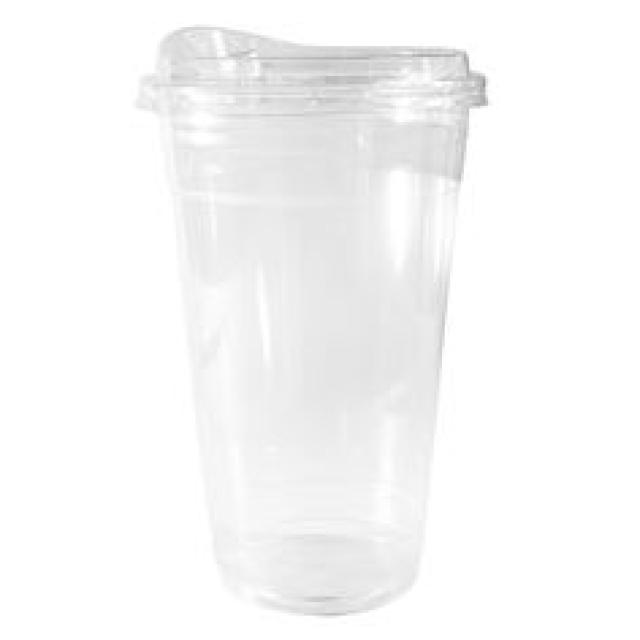bottle: (162, 111, 468, 613)
